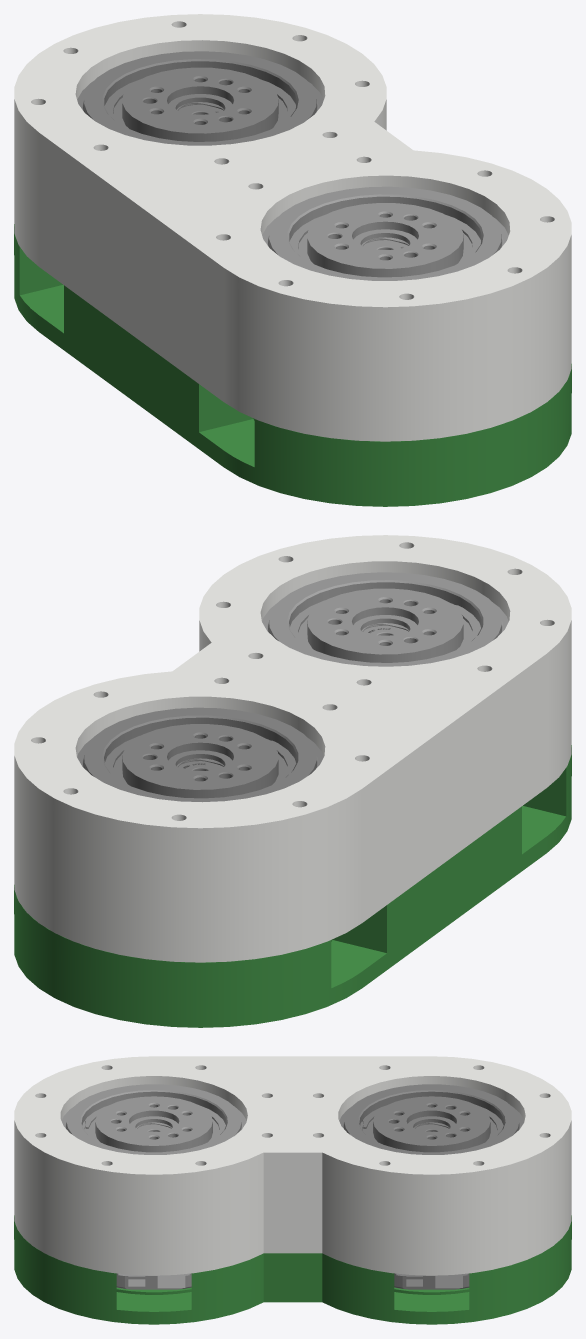
File: RS03_LeftHipPitch.dae
3 views of the same model, one above another, from view 1: azimuth 30°, elevation 25°; view 2: azimuth 150°, elevation 25°; view 3: azimuth 270°, elevation 25° (orthographic). The views are drawn at different scales.
Parts seen in each view (by area): view 1: RS03_LeftHipPitch; view 2: RS03_LeftHipPitch; view 3: RS03_LeftHipPitch.
Part boxes in pixels (box(x1,y1,x2,y2)): RS03_LeftHipPitch: box(14, 14, 571, 506); RS03_LeftHipPitch: box(14, 535, 571, 1027); RS03_LeftHipPitch: box(14, 1056, 571, 1324).
Size of the model in its own units: 0.112 by 0.223 by 0.0661.
